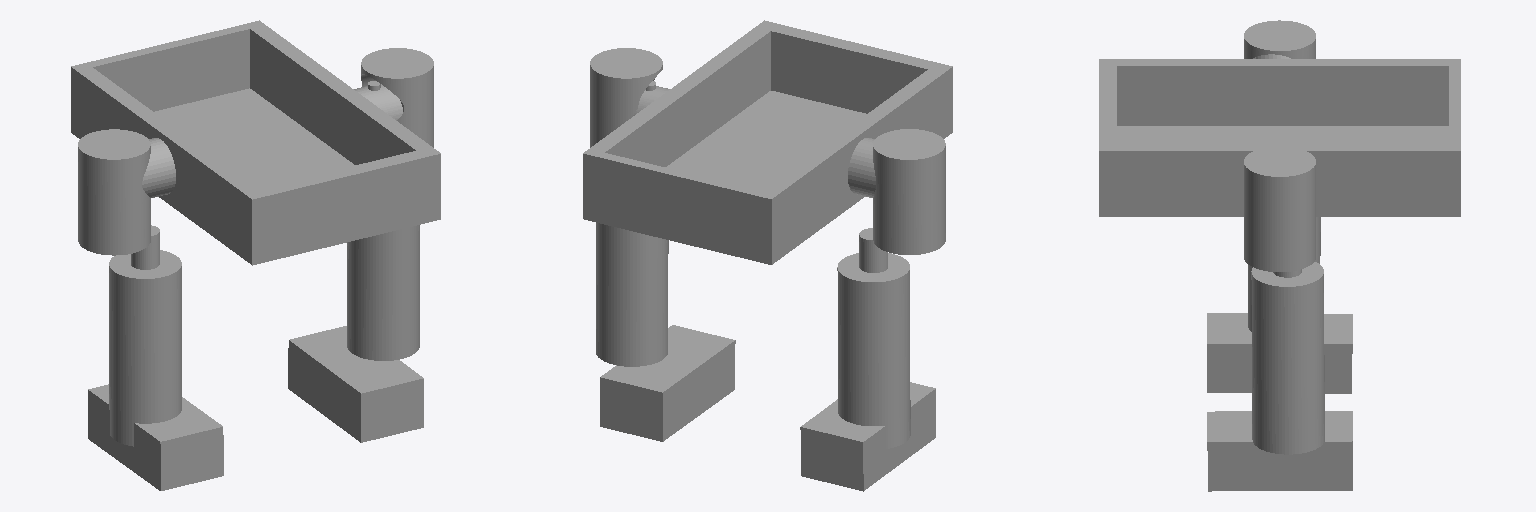
robot.urdf — Siclo1:
<?xml version="1.0" ?>
<!-- =================================================================================== -->
<!-- |    This document was autogenerated by xacro from /tmp/Siclo1_temp.xacro         | -->
<!-- |    EDITING THIS FILE BY HAND IS NOT RECOMMENDED                                 | -->
<!-- =================================================================================== -->
<robot name="Siclo1">
  <material name="silver">
    <color rgba="0.700 0.700 0.700 1.000"/>
  </material>
  <transmission name="Left_Hip_Twist_tran">
    <type>transmission_interface/SimpleTransmission</type>
    <joint name="Left_Hip_Twist">
      <hardwareInterface>hardware_interface/EffortJointInterface</hardwareInterface>
    </joint>
    <actuator name="Left_Hip_Twist_actr">
      <hardwareInterface>hardware_interface/EffortJointInterface</hardwareInterface>
      <mechanicalReduction>1</mechanicalReduction>
    </actuator>
  </transmission>
  <transmission name="Left_Hip_Inwards_tran">
    <type>transmission_interface/SimpleTransmission</type>
    <joint name="Left_Hip_Inwards">
      <hardwareInterface>hardware_interface/EffortJointInterface</hardwareInterface>
    </joint>
    <actuator name="Left_Hip_Inwards_actr">
      <hardwareInterface>hardware_interface/EffortJointInterface</hardwareInterface>
      <mechanicalReduction>1</mechanicalReduction>
    </actuator>
  </transmission>
  <transmission name="Left_Hip_Forwards_tran">
    <type>transmission_interface/SimpleTransmission</type>
    <joint name="Left_Hip_Forwards">
      <hardwareInterface>hardware_interface/EffortJointInterface</hardwareInterface>
    </joint>
    <actuator name="Left_Hip_Forwards_actr">
      <hardwareInterface>hardware_interface/EffortJointInterface</hardwareInterface>
      <mechanicalReduction>1</mechanicalReduction>
    </actuator>
  </transmission>
  <transmission name="Left_Knee_tran">
    <type>transmission_interface/SimpleTransmission</type>
    <joint name="Left_Knee">
      <hardwareInterface>hardware_interface/EffortJointInterface</hardwareInterface>
    </joint>
    <actuator name="Left_Knee_actr">
      <hardwareInterface>hardware_interface/EffortJointInterface</hardwareInterface>
      <mechanicalReduction>1</mechanicalReduction>
    </actuator>
  </transmission>
  <transmission name="Left_Ankle_tran">
    <type>transmission_interface/SimpleTransmission</type>
    <joint name="Left_Ankle">
      <hardwareInterface>hardware_interface/EffortJointInterface</hardwareInterface>
    </joint>
    <actuator name="Left_Ankle_actr">
      <hardwareInterface>hardware_interface/EffortJointInterface</hardwareInterface>
      <mechanicalReduction>1</mechanicalReduction>
    </actuator>
  </transmission>
  <transmission name="Right_Hip_Twist_tran">
    <type>transmission_interface/SimpleTransmission</type>
    <joint name="Right_Hip_Twist">
      <hardwareInterface>hardware_interface/EffortJointInterface</hardwareInterface>
    </joint>
    <actuator name="Right_Hip_Twist_actr">
      <hardwareInterface>hardware_interface/EffortJointInterface</hardwareInterface>
      <mechanicalReduction>1</mechanicalReduction>
    </actuator>
  </transmission>
  <transmission name="Right_Hip_Inwards_tran">
    <type>transmission_interface/SimpleTransmission</type>
    <joint name="Right_Hip_Inwards">
      <hardwareInterface>hardware_interface/EffortJointInterface</hardwareInterface>
    </joint>
    <actuator name="Right_Hip_Inwards_actr">
      <hardwareInterface>hardware_interface/EffortJointInterface</hardwareInterface>
      <mechanicalReduction>1</mechanicalReduction>
    </actuator>
  </transmission>
  <transmission name="Right_Hip_Fowards_tran">
    <type>transmission_interface/SimpleTransmission</type>
    <joint name="Right_Hip_Fowards">
      <hardwareInterface>hardware_interface/EffortJointInterface</hardwareInterface>
    </joint>
    <actuator name="Right_Hip_Fowards_actr">
      <hardwareInterface>hardware_interface/EffortJointInterface</hardwareInterface>
      <mechanicalReduction>1</mechanicalReduction>
    </actuator>
  </transmission>
  <transmission name="Right_Knee_tran">
    <type>transmission_interface/SimpleTransmission</type>
    <joint name="Right_Knee">
      <hardwareInterface>hardware_interface/EffortJointInterface</hardwareInterface>
    </joint>
    <actuator name="Right_Knee_actr">
      <hardwareInterface>hardware_interface/EffortJointInterface</hardwareInterface>
      <mechanicalReduction>1</mechanicalReduction>
    </actuator>
  </transmission>
  <transmission name="Right_Ankle_tran">
    <type>transmission_interface/SimpleTransmission</type>
    <joint name="Right_Ankle">
      <hardwareInterface>hardware_interface/EffortJointInterface</hardwareInterface>
    </joint>
    <actuator name="Right_Ankle_actr">
      <hardwareInterface>hardware_interface/EffortJointInterface</hardwareInterface>
      <mechanicalReduction>1</mechanicalReduction>
    </actuator>
  </transmission>
  <gazebo>
    <plugin filename="libgazebo_ros_control.so" name="control"/>
  </gazebo>
  <gazebo reference="base_link">
    <material>Gazebo/Silver</material>
    <mu1>0.2</mu1>
    <mu2>0.2</mu2>
    <selfCollide>true</selfCollide>
    <gravity>true</gravity>
  </gazebo>
  <gazebo reference="Yaw_Link_Left_1">
    <material>Gazebo/Silver</material>
    <mu1>0.2</mu1>
    <mu2>0.2</mu2>
    <selfCollide>true</selfCollide>
  </gazebo>
  <gazebo reference="Inwards_Link_Left_1">
    <material>Gazebo/Silver</material>
    <mu1>0.2</mu1>
    <mu2>0.2</mu2>
    <selfCollide>true</selfCollide>
  </gazebo>
  <gazebo reference="Left_Upper_Leg_1">
    <material>Gazebo/Silver</material>
    <mu1>0.2</mu1>
    <mu2>0.2</mu2>
    <selfCollide>true</selfCollide>
  </gazebo>
  <gazebo reference="Left_Lower_Leg_1">
    <material>Gazebo/Silver</material>
    <mu1>0.2</mu1>
    <mu2>0.2</mu2>
    <selfCollide>true</selfCollide>
  </gazebo>
  <gazebo reference="Left_Foot_1">
    <material>Gazebo/Silver</material>
    <mu1>0.2</mu1>
    <mu2>0.2</mu2>
    <selfCollide>true</selfCollide>
  </gazebo>
  <gazebo reference="Yaw_Link_Right_1">
    <material>Gazebo/Silver</material>
    <mu1>0.2</mu1>
    <mu2>0.2</mu2>
    <selfCollide>true</selfCollide>
  </gazebo>
  <gazebo reference="Inwards_Link_Right_1">
    <material>Gazebo/Silver</material>
    <mu1>0.2</mu1>
    <mu2>0.2</mu2>
    <selfCollide>true</selfCollide>
  </gazebo>
  <gazebo reference="Right_Upper_Leg_1">
    <material>Gazebo/Silver</material>
    <mu1>0.2</mu1>
    <mu2>0.2</mu2>
    <selfCollide>true</selfCollide>
  </gazebo>
  <gazebo reference="Right_Lower_Leg_1">
    <material>Gazebo/Silver</material>
    <mu1>0.2</mu1>
    <mu2>0.2</mu2>
    <selfCollide>true</selfCollide>
  </gazebo>
  <gazebo reference="Right_Foot_1">
    <material>Gazebo/Silver</material>
    <mu1>0.2</mu1>
    <mu2>0.2</mu2>
    <selfCollide>true</selfCollide>
  </gazebo>
  <link name="base_link">
    <inertial>
      <origin rpy="0 0 0" xyz="0.55 0.1839337697675572 0.8806370422241733"/>
      <mass value="5.999270106348153"/>
      <inertia ixx="0.628826" ixy="0.000141" ixz="6.4e-05" iyy="0.37776" iyz="0.00285" izz="0.96037"/>
    </inertial>
    <visual>
      <origin rpy="0 0 0" xyz="0 0 0"/>
      <geometry>
        <mesh filename="meshes/base_link.stl" scale="0.001 0.001 0.001"/>
      </geometry>
      <material name="silver"/>
    </visual>
    <collision>
      <origin rpy="0 0 0" xyz="0 0 0"/>
      <geometry>
        <mesh filename="meshes/base_link.stl" scale="0.001 0.001 0.001"/>
      </geometry>
    </collision>
  </link>
  <link name="Yaw_Link_Left_1">
    <inertial>
      <origin rpy="0 0 0" xyz="1.1102230246251565e-16 -5.551115123125783e-17 -0.08124999999999993"/>
      <mass value="0.05001800809403412"/>
      <inertia ixx="5.7e-05" ixy="0.0" ixz="0.0" iyy="5.7e-05" iyz="-0.0" izz="8e-06"/>
    </inertial>
    <visual>
      <origin rpy="0 0 0" xyz="-0.925 -0.2 -0.98"/>
      <geometry>
        <mesh filename="meshes/Yaw_Link_Left_1.stl" scale="0.001 0.001 0.001"/>
      </geometry>
      <material name="silver"/>
    </visual>
    <collision>
      <origin rpy="0 0 0" xyz="-0.925 -0.2 -0.98"/>
      <geometry>
        <mesh filename="meshes/Yaw_Link_Left_1.stl" scale="0.001 0.001 0.001"/>
      </geometry>
    </collision>
  </link>
  <link name="Inwards_Link_Left_1">
    <inertial>
      <origin rpy="0 0 0" xyz="0.0 0.017796999999999924 0.0"/>
      <mass value="0.05001800809403413"/>
      <inertia ixx="8e-06" ixy="-0.0" ixz="0.0" iyy="5.7e-05" iyz="-0.0" izz="5.7e-05"/>
    </inertial>
    <visual>
      <origin rpy="0 0 0" xyz="-0.925 -0.182203 -0.89875"/>
      <geometry>
        <mesh filename="meshes/Inwards_Link_Left_1.stl" scale="0.001 0.001 0.001"/>
      </geometry>
      <material name="silver"/>
    </visual>
    <collision>
      <origin rpy="0 0 0" xyz="-0.925 -0.182203 -0.89875"/>
      <geometry>
        <mesh filename="meshes/Inwards_Link_Left_1.stl" scale="0.001 0.001 0.001"/>
      </geometry>
    </collision>
  </link>
  <link name="Left_Upper_Leg_1">
    <inertial>
      <origin rpy="0 0 0" xyz="0.1407448576165632 0.001627796640034762 -0.03499248663320509"/>
      <mass value="0.5498281512292873"/>
      <inertia ixx="0.005497" ixy="5.3e-05" ixz="-0.000339" iyy="0.005226" iyz="-5.7e-05" izz="0.002672"/>
    </inertial>
    <visual>
      <origin rpy="0 0 0" xyz="-0.86875 -0.2 -0.879703"/>
      <geometry>
        <mesh filename="meshes/Left_Upper_Leg_1.stl" scale="0.001 0.001 0.001"/>
      </geometry>
      <material name="silver"/>
    </visual>
    <collision>
      <origin rpy="0 0 0" xyz="-0.86875 -0.2 -0.879703"/>
      <geometry>
        <mesh filename="meshes/Left_Upper_Leg_1.stl" scale="0.001 0.001 0.001"/>
      </geometry>
    </collision>
  </link>
  <link name="Left_Lower_Leg_1">
    <inertial>
      <origin rpy="0 0 0" xyz="0.09999999999999987 0.022628189726442455 -0.4154072995638456"/>
      <mass value="0.25056451084866793"/>
      <inertia ixx="0.006564" ixy="-0.0" ixz="0.0" iyy="0.006564" iyz="2.9e-05" izz="0.001224"/>
    </inertial>
    <visual>
      <origin rpy="0 0 0" xyz="-0.89975 -0.200969 -0.82757"/>
      <geometry>
        <mesh filename="meshes/Left_Lower_Leg_1.stl" scale="0.001 0.001 0.001"/>
      </geometry>
      <material name="silver"/>
    </visual>
    <collision>
      <origin rpy="0 0 0" xyz="-0.89975 -0.200969 -0.82757"/>
      <geometry>
        <mesh filename="meshes/Left_Lower_Leg_1.stl" scale="0.001 0.001 0.001"/>
      </geometry>
    </collision>
  </link>
  <link name="Left_Foot_1">
    <inertial>
      <origin rpy="0 0 0" xyz="-1.1102230246251565e-16 0.0004028172209023795 -0.07499853795249971"/>
      <mass value="0.15"/>
      <inertia ixx="0.002281" ixy="0.0" ixz="0.0" iyy="0.000781" iyz="-9e-06" izz="0.0025"/>
    </inertial>
    <visual>
      <origin rpy="0 0 0" xyz="-0.99975 -0.225012 -0.148352"/>
      <geometry>
        <mesh filename="meshes/Left_Foot_1.stl" scale="0.001 0.001 0.001"/>
      </geometry>
      <material name="silver"/>
    </visual>
    <collision>
      <origin rpy="0 0 0" xyz="-0.99975 -0.225012 -0.148352"/>
      <geometry>
        <mesh filename="meshes/Left_Foot_1.stl" scale="0.001 0.001 0.001"/>
      </geometry>
    </collision>
  </link>
  <link name="Yaw_Link_Right_1">
    <inertial>
      <origin rpy="0 0 0" xyz="0.0 2.7755575615628914e-17 0.0837500000000001"/>
      <mass value="0.05001800809403413"/>
      <inertia ixx="5.7e-05" ixy="-0.0" ixz="0.0" iyy="5.7e-05" iyz="0.0" izz="8e-06"/>
    </inertial>
    <visual>
      <origin rpy="0 0 0" xyz="-0.175 -0.2 -0.82"/>
      <geometry>
        <mesh filename="meshes/Yaw_Link_Right_1.stl" scale="0.001 0.001 0.001"/>
      </geometry>
      <material name="silver"/>
    </visual>
    <collision>
      <origin rpy="0 0 0" xyz="-0.175 -0.2 -0.82"/>
      <geometry>
        <mesh filename="meshes/Yaw_Link_Right_1.stl" scale="0.001 0.001 0.001"/>
      </geometry>
    </collision>
  </link>
  <link name="Inwards_Link_Right_1">
    <inertial>
      <origin rpy="0 0 0" xyz="2.498001805406602e-16 -0.018391706160032883 0.003749999999999032"/>
      <mass value="0.05001800809403407"/>
      <inertia ixx="8e-06" ixy="-0.0" ixz="-0.0" iyy="5.7e-05" iyz="0.0" izz="5.7e-05"/>
    </inertial>
    <visual>
      <origin rpy="0 0 0" xyz="-0.175 -0.217797 -0.9"/>
      <geometry>
        <mesh filename="meshes/Inwards_Link_Right_1.stl" scale="0.001 0.001 0.001"/>
      </geometry>
      <material name="silver"/>
    </visual>
    <collision>
      <origin rpy="0 0 0" xyz="-0.175 -0.217797 -0.9"/>
      <geometry>
        <mesh filename="meshes/Inwards_Link_Right_1.stl" scale="0.001 0.001 0.001"/>
      </geometry>
    </collision>
  </link>
  <link name="Right_Upper_Leg_1">
    <inertial>
      <origin rpy="0 0 0" xyz="-0.14074485761656322 0.0011154210407345322 -0.07170479247980155"/>
      <mass value="0.5498281512292872"/>
      <inertia ixx="0.005497" ixy="-5.1e-05" ixz="0.00034" iyy="0.005226" iyz="-7e-05" izz="0.002672"/>
    </inertial>
    <visual>
      <origin rpy="0 0 0" xyz="-0.23125 -0.2 -0.917797"/>
      <geometry>
        <mesh filename="meshes/Right_Upper_Leg_1.stl" scale="0.001 0.001 0.001"/>
      </geometry>
      <material name="silver"/>
    </visual>
    <collision>
      <origin rpy="0 0 0" xyz="-0.23125 -0.2 -0.917797"/>
      <geometry>
        <mesh filename="meshes/Right_Upper_Leg_1.stl" scale="0.001 0.001 0.001"/>
      </geometry>
    </collision>
  </link>
  <link name="Right_Lower_Leg_1">
    <inertial>
      <origin rpy="0 0 0" xyz="-0.02499999999999994 0.011548712597451327 -0.4949316102548527"/>
      <mass value="0.2505645108486679"/>
      <inertia ixx="0.006564" ixy="0.0" ixz="-0.0" iyy="0.006564" iyz="-2.9e-05" izz="0.001224"/>
    </inertial>
    <visual>
      <origin rpy="0 0 0" xyz="-0.12525 -0.186308 -0.909207"/>
      <geometry>
        <mesh filename="meshes/Right_Lower_Leg_1.stl" scale="0.001 0.001 0.001"/>
      </geometry>
      <material name="silver"/>
    </visual>
    <collision>
      <origin rpy="0 0 0" xyz="-0.12525 -0.186308 -0.909207"/>
      <geometry>
        <mesh filename="meshes/Right_Lower_Leg_1.stl" scale="0.001 0.001 0.001"/>
      </geometry>
    </collision>
  </link>
  <link name="Right_Foot_1">
    <inertial>
      <origin rpy="0 0 0" xyz="6.938893903907228e-17 -0.00040191489700858174 -0.07499884864350675"/>
      <mass value="0.15000000000000002"/>
      <inertia ixx="0.002281" ixy="0.0" ixz="0.0" iyy="0.000781" iyz="9e-06" izz="0.0025"/>
    </inertial>
    <visual>
      <origin rpy="0 0 0" xyz="-0.10025 -0.196441 -0.150465"/>
      <geometry>
        <mesh filename="meshes/Right_Foot_1.stl" scale="0.001 0.001 0.001"/>
      </geometry>
      <material name="silver"/>
    </visual>
    <collision>
      <origin rpy="0 0 0" xyz="-0.10025 -0.196441 -0.150465"/>
      <geometry>
        <mesh filename="meshes/Right_Foot_1.stl" scale="0.001 0.001 0.001"/>
      </geometry>
    </collision>
  </link>
  <joint name="Left_Hip_Twist" type="revolute">
    <origin rpy="0 0 0" xyz="0.925 0.2 1.018094"/>
    <parent link="base_link"/>
    <child link="Yaw_Link_Left_1"/>
    <axis xyz="0.0 0.0 1.0"/>
    <limit effort="100" lower="-0.349066" upper="0.349066" velocity="100"/>
  </joint>
  <joint name="Left_Hip_Inwards" type="revolute">
    <origin rpy="0 0 0" xyz="0.0 -0.017797 -0.08125"/>
    <parent link="Yaw_Link_Left_1"/>
    <child link="Inwards_Link_Left_1"/>
    <axis xyz="-0.0 -1.0 0.0"/>
    <limit effort="100" lower="-0.698132" upper="0.698132" velocity="100"/>
  </joint>
  <joint name="Left_Hip_Forwards" type="revolute">
    <origin rpy="0 0 0" xyz="-0.05625 0.017797 -0.019047"/>
    <parent link="Inwards_Link_Left_1"/>
    <child link="Left_Upper_Leg_1"/>
    <axis xyz="-1.0 -0.0 -0.0"/>
    <limit effort="100" lower="-1.570796" upper="1.570796" velocity="100"/>
  </joint>
  <joint name="Left_Knee" type="revolute">
    <origin rpy="0 0 0" xyz="0.0 0.0 -0.060661"/>
    <parent link="Left_Upper_Leg_1"/>
    <child link="Left_Lower_Leg_1"/>
    <axis xyz="-1.0 0.0 -0.0"/>
    <limit effort="100" lower="-1.570796" upper="1.570796" velocity="100"/>
  </joint>
  <joint name="Left_Ankle" type="revolute">
    <origin rpy="0 0 0" xyz="0.0 0.0 -0.686961"/>
    <parent link="Left_Lower_Leg_1"/>
    <child link="Left_Foot_1"/>
    <axis xyz="0.0 0.005365 -0.999986"/>
    <limit effort="100" lower="-0.349066" upper="0.349066" velocity="100"/>
  </joint>
  <joint name="Right_Hip_Twist" type="revolute">
    <origin rpy="0 0 0" xyz="0.175 0.2 0.82"/>
    <parent link="base_link"/>
    <child link="Yaw_Link_Right_1"/>
    <axis xyz="0.0 -0.0 -1.0"/>
    <limit effort="100" lower="-0.349066" upper="0.349066" velocity="100"/>
  </joint>
  <joint name="Right_Hip_Inwards" type="revolute">
    <origin rpy="0 0 0" xyz="0.0 0.017797 0.08"/>
    <parent link="Yaw_Link_Right_1"/>
    <child link="Inwards_Link_Right_1"/>
    <axis xyz="0.0 -1.0 0.0"/>
    <limit effort="100" lower="-0.698132" upper="0.698132" velocity="100"/>
  </joint>
  <joint name="Right_Hip_Fowards" type="revolute">
    <origin rpy="0 0 0" xyz="0.05625 -0.017797 0.017797"/>
    <parent link="Inwards_Link_Right_1"/>
    <child link="Right_Upper_Leg_1"/>
    <axis xyz="1.0 0.0 0.0"/>
    <limit effort="100" lower="-1.570796" upper="1.570796" velocity="100"/>
  </joint>
  <joint name="Right_Knee" type="revolute">
    <origin rpy="0 0 0" xyz="0.0 0.0 -0.060661"/>
    <parent link="Right_Upper_Leg_1"/>
    <child link="Right_Lower_Leg_1"/>
    <axis xyz="1.0 0.0 0.0"/>
    <limit effort="100" lower="-1.570796" upper="1.570796" velocity="100"/>
  </joint>
  <joint name="Right_Ankle" type="revolute">
    <origin rpy="0 0 0" xyz="0.0 0.0 -0.686961"/>
    <parent link="Right_Lower_Leg_1"/>
    <child link="Right_Foot_1"/>
    <axis xyz="0.0 -0.005365 -0.999986"/>
    <limit effort="100" lower="-0.349066" upper="0.349066" velocity="100"/>
  </joint>
</robot>

--- Render facts (derived) ---
Views: 3 orthographic renders of the robot side by side, from view 1: azimuth 30°, elevation 25°; view 2: azimuth 150°, elevation 25°; view 3: azimuth 270°, elevation 25°.
Robot: Siclo1 — 11 links, 10 joints (10 revolute); root link base_link; default pose: all joints at 0.
Links seen in each view (by area): view 1: base_link, Right_Lower_Leg_1, Left_Foot_1, Left_Lower_Leg_1, Right_Upper_Leg_1, Right_Foot_1, Left_Upper_Leg_1; view 2: base_link, Right_Lower_Leg_1, Left_Foot_1, Left_Lower_Leg_1, Right_Upper_Leg_1, Right_Foot_1, Left_Upper_Leg_1; view 3: base_link, Left_Lower_Leg_1, Left_Foot_1, Left_Upper_Leg_1, Right_Foot_1, Right_Upper_Leg_1.
Boxes of the visible links, x1,y1,x2,y2 form: base_link: (71, 20, 440, 265); Right_Lower_Leg_1: (109, 225, 181, 446); Left_Foot_1: (288, 326, 423, 442); Left_Lower_Leg_1: (347, 225, 419, 360); Right_Upper_Leg_1: (78, 129, 150, 255); Right_Foot_1: (88, 384, 223, 490); Left_Upper_Leg_1: (361, 48, 433, 147); base_link: (583, 20, 952, 264); Right_Lower_Leg_1: (837, 228, 910, 448); Left_Foot_1: (600, 325, 735, 441); Left_Lower_Leg_1: (596, 223, 668, 366); Right_Upper_Leg_1: (873, 129, 945, 254); Right_Foot_1: (800, 382, 935, 491); Left_Upper_Leg_1: (590, 48, 662, 147); base_link: (1099, 54, 1460, 216); Left_Lower_Leg_1: (1251, 262, 1324, 454); Left_Foot_1: (1207, 411, 1352, 491); Left_Upper_Leg_1: (1244, 146, 1315, 271); Right_Foot_1: (1207, 313, 1352, 393); Right_Upper_Leg_1: (1244, 20, 1315, 58).
Size in the robot's own frame: 1.1 by 1 by 1.02 metres.
11 mesh visuals loaded from 11 distinct referenced files (11 binary STL).
